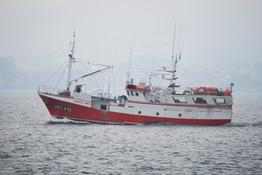otherboat: (37, 23, 236, 126)
